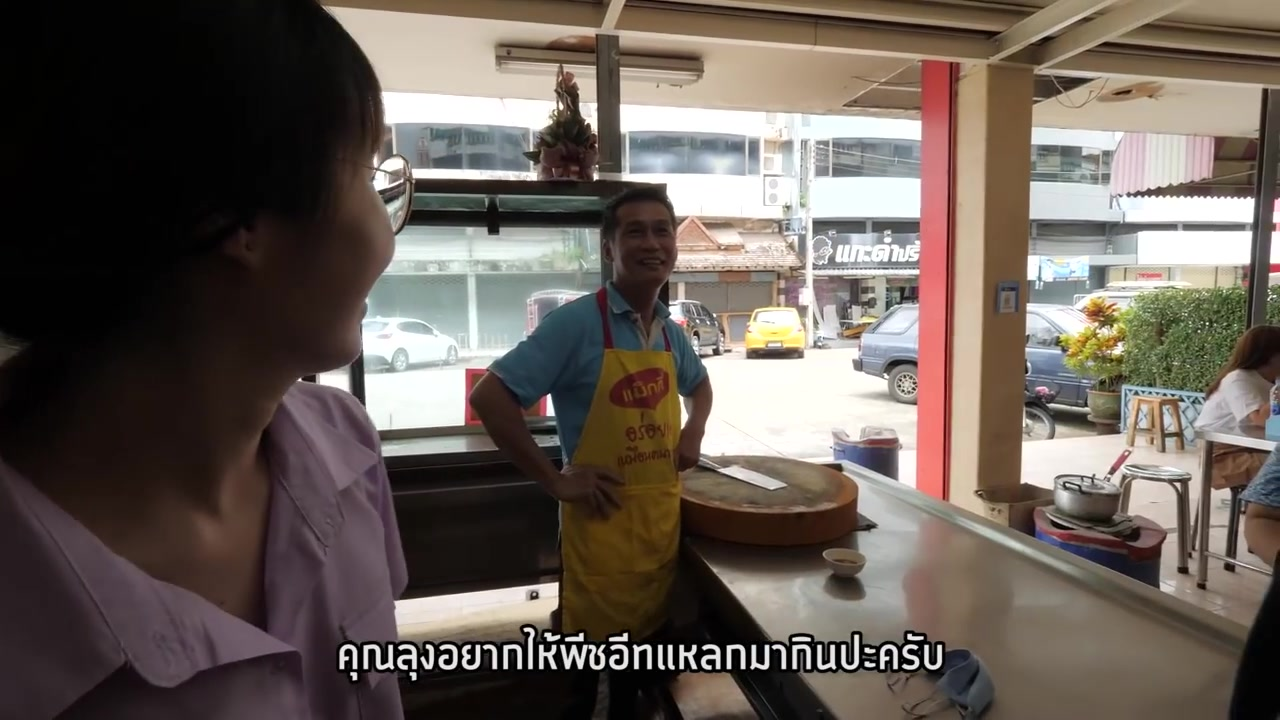text-label: (334, 625, 945, 685)
